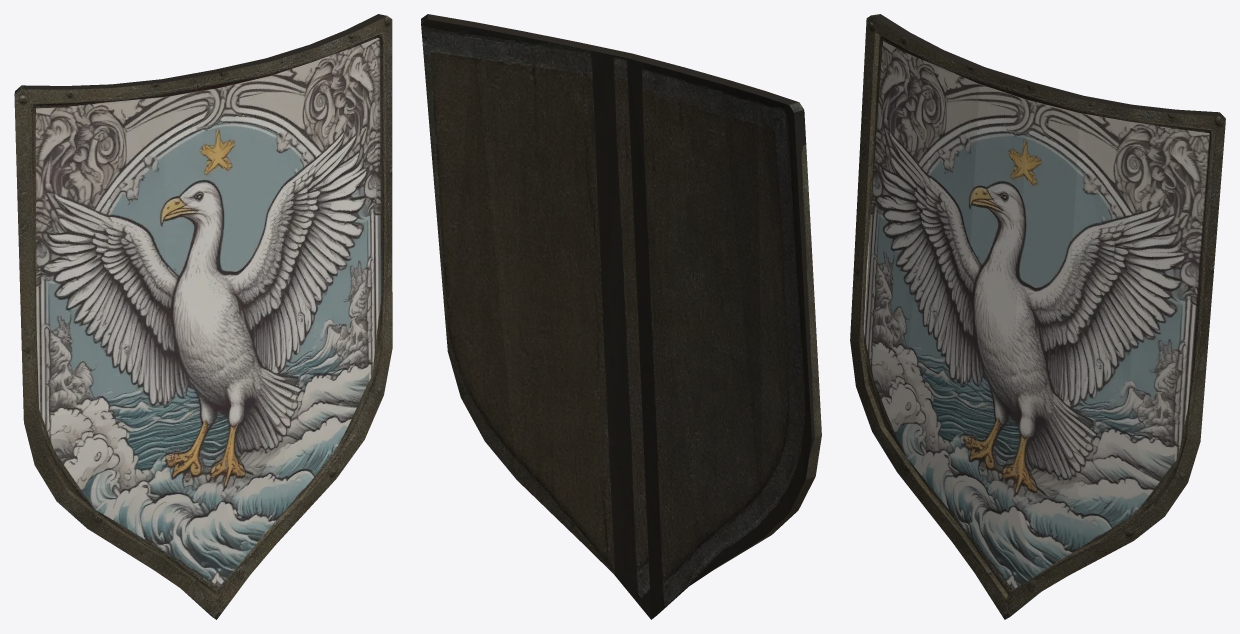
File: DE_VALCOUR_SHIELD_IRON.glb
The picture shows the model from 3 angles, left to right: view 1: azimuth 30°, elevation 25°; view 2: azimuth 150°, elevation 25°; view 3: azimuth 330°, elevation 25°; orthographic projection. The views are drawn at different scales.
Visible parts, largest first — view 1: DE_VALCOUR_SHIELD_IRON; view 2: DE_VALCOUR_SHIELD_IRON; view 3: DE_VALCOUR_SHIELD_IRON.
Part boxes in pixels (x1,y1,x2,y2): DE_VALCOUR_SHIELD_IRON: [14, 14, 392, 619]; DE_VALCOUR_SHIELD_IRON: [421, 14, 821, 619]; DE_VALCOUR_SHIELD_IRON: [850, 14, 1225, 619].
Size of the model in its own units: 0.6706 by 0.9412 by 0.1112.
Materials: 1 (1 with a texture image).
